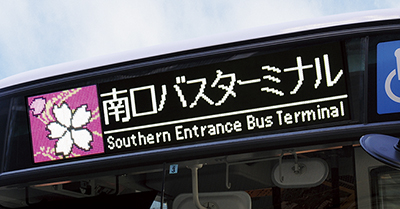destination: (97, 38, 352, 152)
